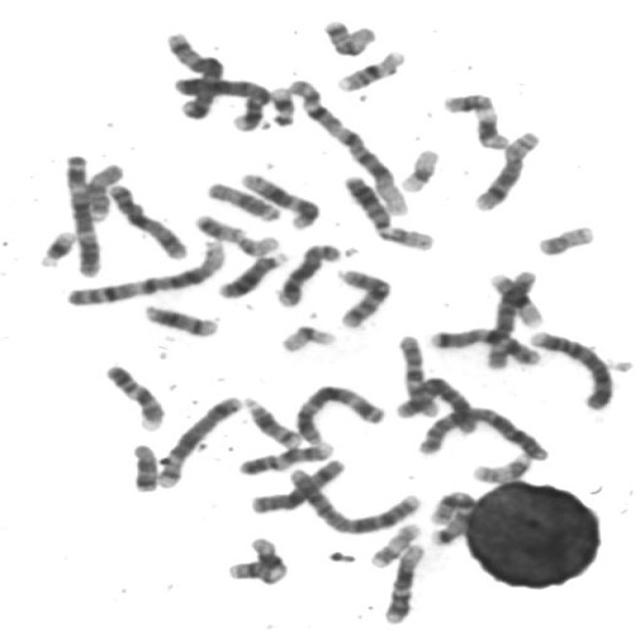A1: (281, 74, 413, 215), (58, 233, 230, 308)
A2: (284, 459, 426, 537), (412, 399, 552, 462)
A3: (289, 378, 389, 446), (58, 148, 105, 278)
B4: (525, 323, 617, 412), (170, 69, 272, 133)
B5: (151, 389, 246, 490), (159, 26, 228, 120)
C10: (331, 262, 395, 331), (392, 328, 441, 418)
C11: (437, 87, 513, 151), (222, 532, 290, 585)
C12: (234, 165, 324, 230), (378, 538, 427, 626)
C6: (478, 264, 540, 370), (393, 370, 481, 436)
C7: (425, 322, 546, 366), (425, 484, 479, 547)
C8: (469, 125, 544, 212), (272, 238, 344, 308)
C9: (100, 358, 169, 432), (234, 436, 338, 477)
D13: (213, 246, 293, 300), (338, 169, 396, 233)
D14: (238, 391, 306, 449), (137, 298, 223, 338)
D15: (202, 175, 285, 222), (81, 157, 127, 222)
E16: (483, 266, 547, 329), (332, 44, 411, 93)
E17: (364, 518, 424, 570), (466, 448, 535, 485)
E18: (318, 13, 380, 57), (125, 437, 161, 494)
F19: (396, 142, 444, 194), (275, 319, 341, 355)
F20: (532, 218, 598, 258), (189, 208, 247, 242)
G21: (33, 224, 80, 268), (264, 80, 298, 128)
G22: (380, 219, 437, 251), (235, 229, 282, 259)
X: (102, 178, 192, 261), (244, 452, 348, 516)
